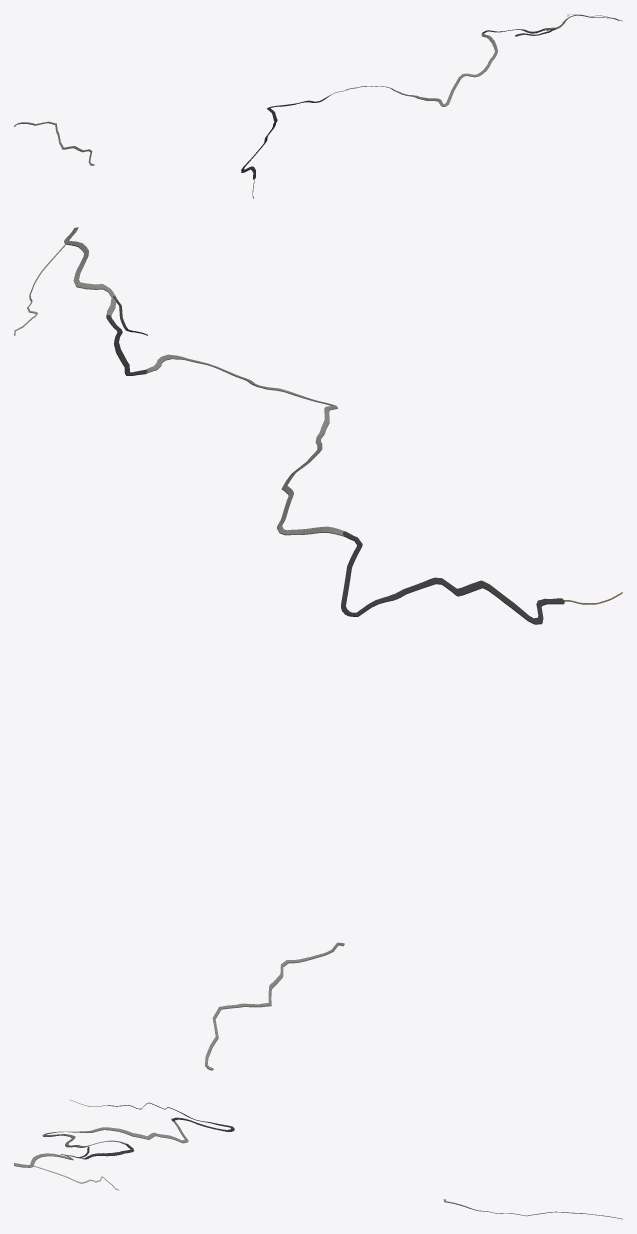
3 views of the same model, one above another, from view 1: azimuth 30°, elevation 25°; view 2: azimuth 150°, elevation 25°; view 3: azimuth 270°, elevation 25° (orthographic). The views are drawn at different scales.
Size of the model in its own units: 841 by 504 by 1118.
